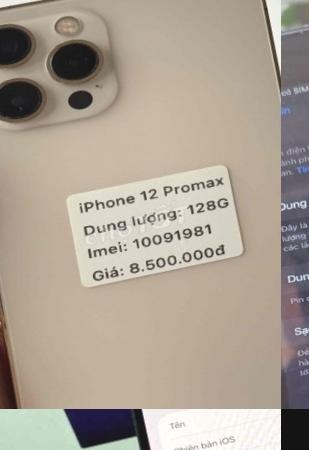scratch: (281, 0, 309, 49)
